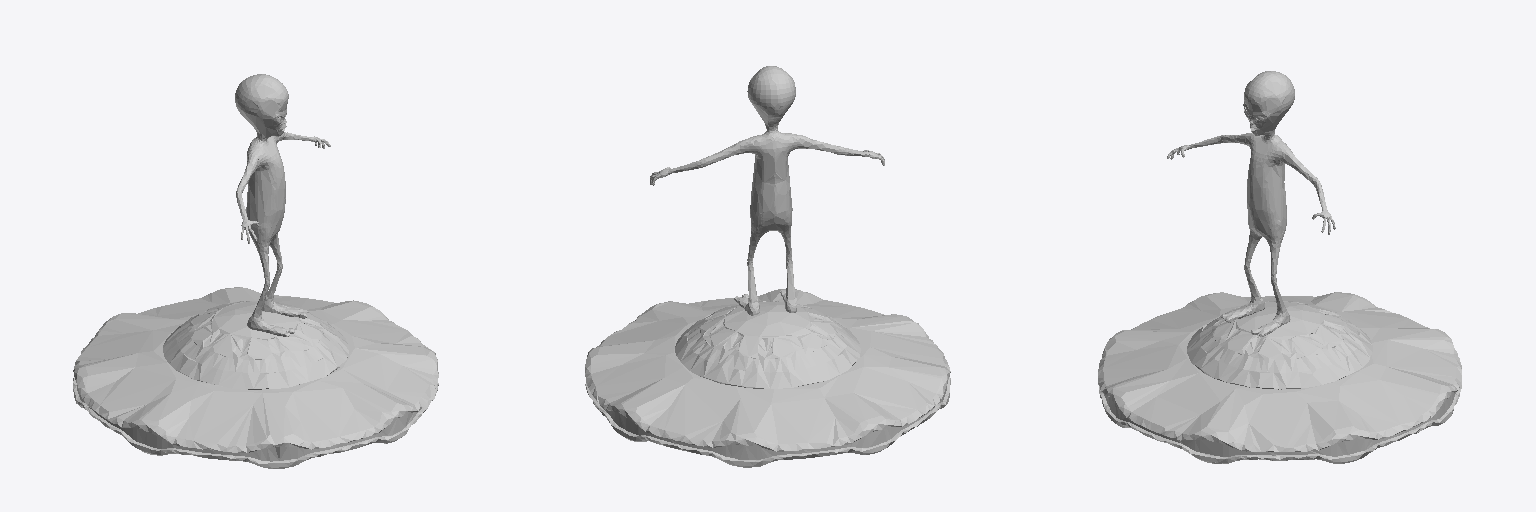
Rendered from frame_097.obj.
3 renders of one model, left to right at view 1: azimuth 30°, elevation 25°; view 2: azimuth 150°, elevation 25°; view 3: azimuth 270°, elevation 25°, orthographic.
Parts seen in each view (by area): view 1: 13884_UFO_Saucer_v1_l2, 10469_GrayAlien_v01; view 2: 13884_UFO_Saucer_v1_l2, 10469_GrayAlien_v01; view 3: 13884_UFO_Saucer_v1_l2, 10469_GrayAlien_v01.
Part boxes in pixels (left/top/right/bottom): 13884_UFO_Saucer_v1_l2: left=73, top=287, right=438, bottom=468; 10469_GrayAlien_v01: left=235, top=74, right=330, bottom=336; 13884_UFO_Saucer_v1_l2: left=585, top=289, right=950, bottom=467; 10469_GrayAlien_v01: left=650, top=66, right=884, bottom=315; 13884_UFO_Saucer_v1_l2: left=1098, top=292, right=1461, bottom=463; 10469_GrayAlien_v01: left=1167, top=71, right=1335, bottom=336.
Bounding box in the file's own units: 12.69 × 14.08 × 12.7.